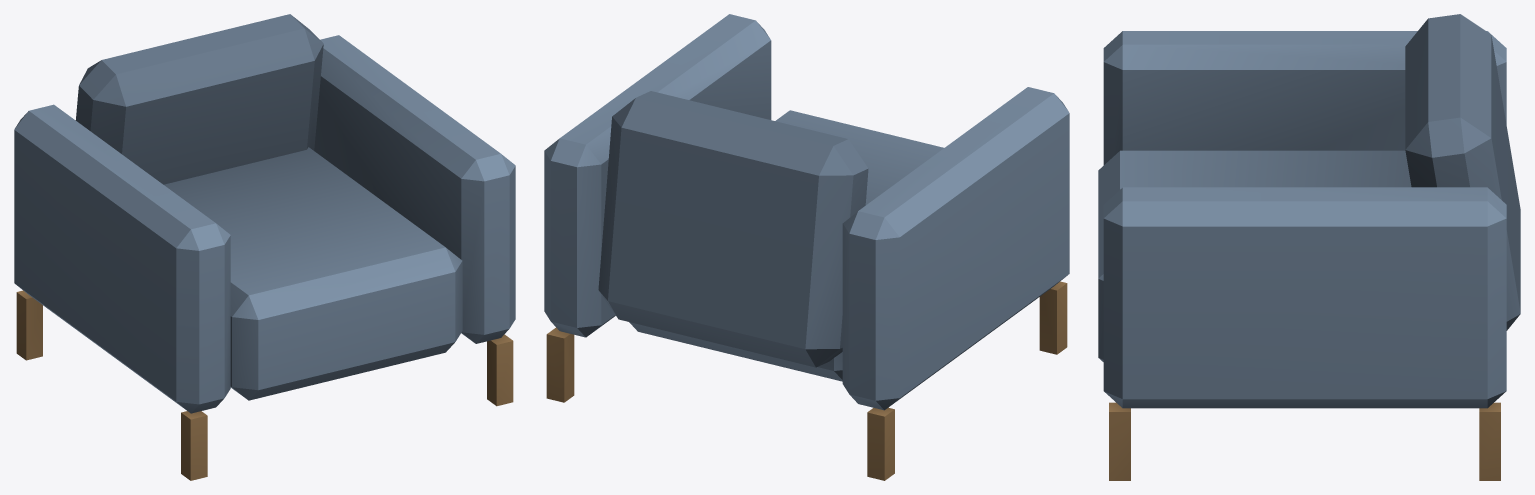
File: lounge_chair.glb
3 renders of one model, left to right at view 1: azimuth 30°, elevation 25°; view 2: azimuth 150°, elevation 25°; view 3: azimuth 270°, elevation 25°, orthographic. The views are drawn at different scales.
Visible parts, largest first — view 1: arms, seat, back, legs; view 2: arms, back, seat, legs; view 3: arms, back, seat, legs.
Part boxes in pixels (<box>): arms: <box>14,35,515,413</box>; seat: <box>164,147,462,400</box>; back: <box>75,14,323,184</box>; legs: <box>16,290,513,480</box>; arms: <box>544,14,1069,410</box>; back: <box>598,91,868,367</box>; seat: <box>629,110,943,381</box>; legs: <box>546,281,1067,480</box>; arms: <box>1103,31,1506,408</box>; back: <box>1405,14,1520,330</box>; seat: <box>1098,150,1411,361</box>; legs: <box>1109,402,1500,480</box>.
Bounding box in the file's own units: 0.81 × 0.6619 × 0.776.
